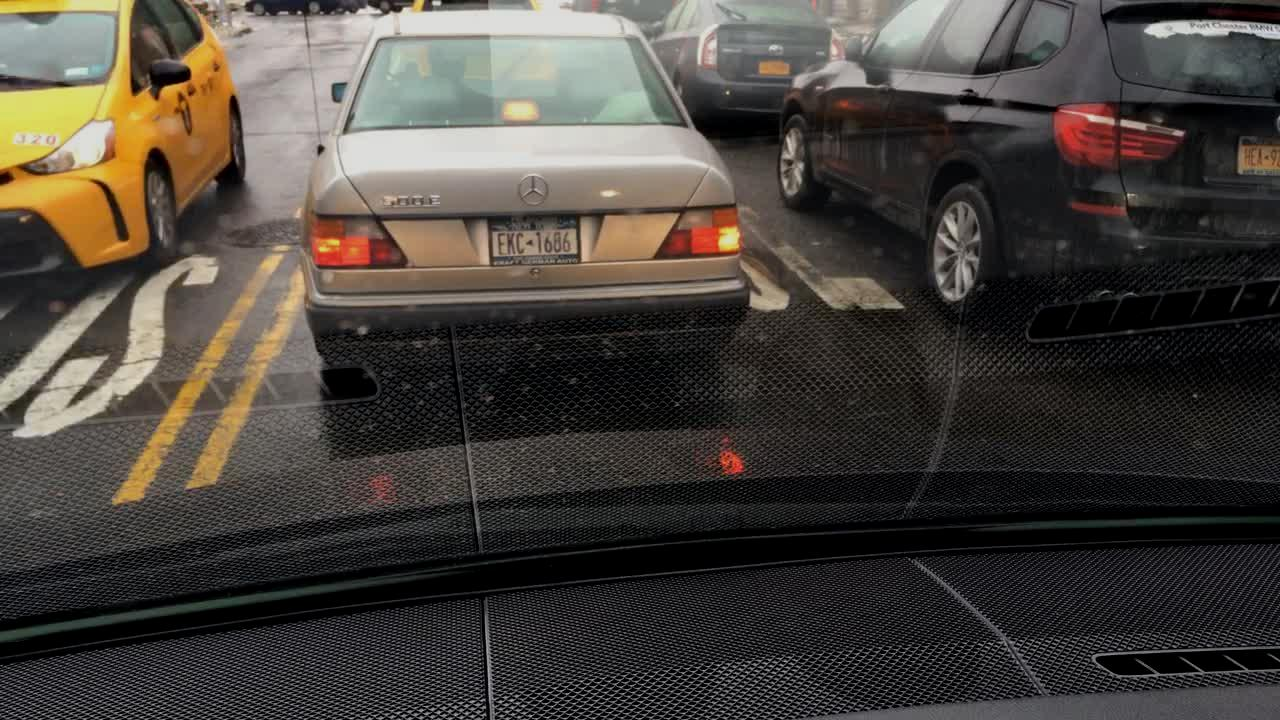Mercedes: (509, 158, 563, 218)
